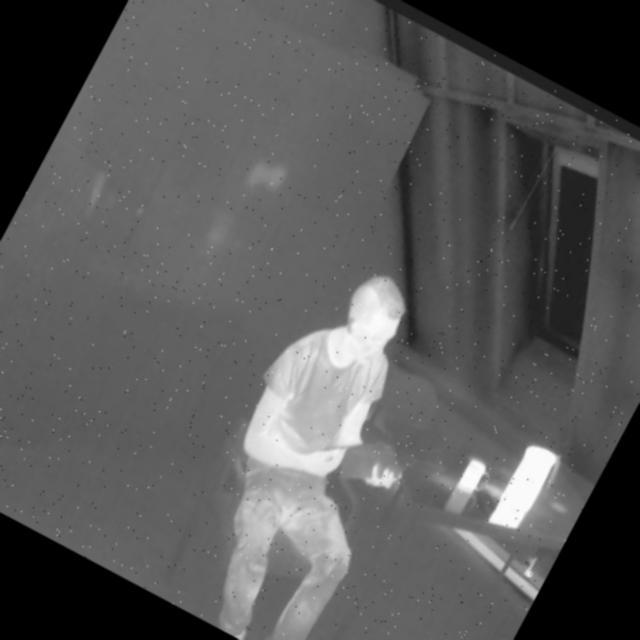person: (148, 239, 489, 640)
